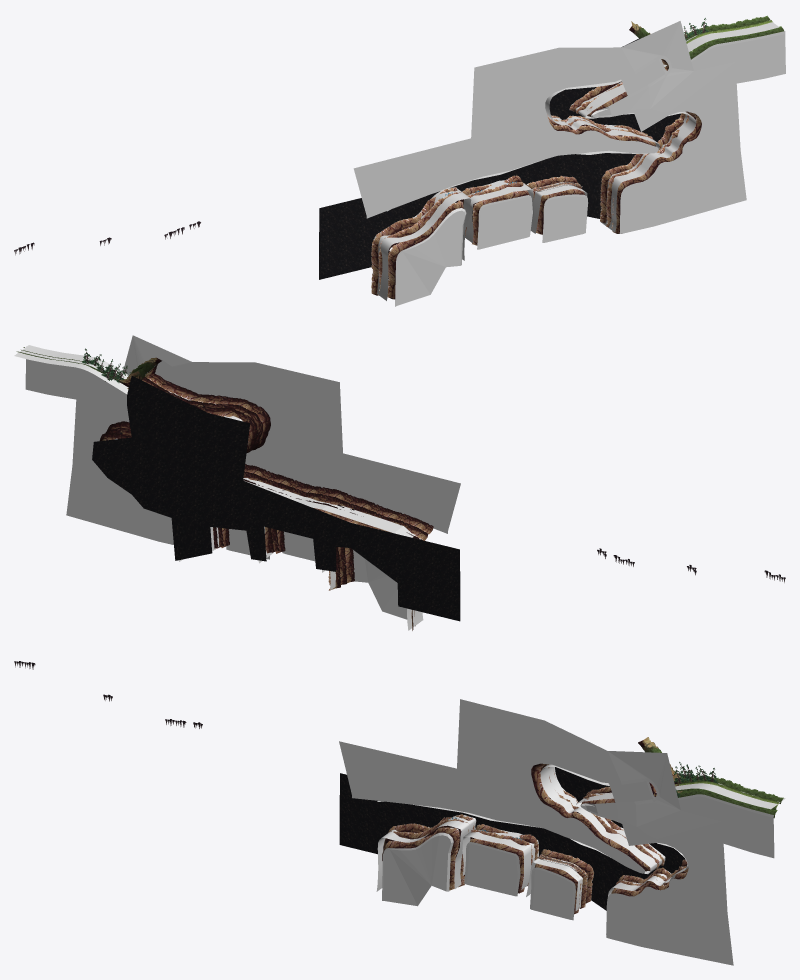
File: Lvl 9 Pt 4.FBX
3 views of the same model, one above another, from view 1: azimuth 30°, elevation 25°; view 2: azimuth 150°, elevation 25°; view 3: azimuth 330°, elevation 25° (orthographic).
Parts seen in each view (by area): view 1: Black LVL pt 4_5 (×2), Black LVL pt 4, Lvl 9 Col Pt 4, BG Lvl 9 Mines Pt 4_1, BG Lvl 9 Mines Pt 4_2, Black LVL pt 4_2, Black LVL pt 4_3, Black LVL pt 4_4, Rock Pt 4_012FG001 BG, Rock Pt 4_012FG, Rock Pt 4_010FG001 BG, Rock Pt 4_010FG (+6 smaller); view 2: Black LVL pt 4_5 (×2), BG Lvl 9 Mines Pt 4_2, BG Lvl 9 Mines Pt 4_1, Black LVL pt 4, Lvl 9 Col Pt 4, Rock Pt 4_013FG, Black LVL pt 4_2, Rock Pt 4_009FG, Rock Pt 4_4, Black LVL pt 4_3, Rock Pt 4_5, Rock Pt 4_009FG001 BG (+1 smaller); view 3: Black LVL pt 4_5 (×2), Black LVL pt 4, Lvl 9 Col Pt 4, BG Lvl 9 Mines Pt 4_1, Black LVL pt 4_2, BG Lvl 9 Mines Pt 4_2, Black LVL pt 4_3, Black LVL pt 4_4, Rock Pt 4_009FG, Rock Pt 4_014FG001 BG, Rock Pt 4_010FG, Rock Pt 4_014FG (+2 smaller).
Boxes of the visible parts, x1,y1,x2,y2 form: Black LVL pt 4_5 (×2): (471,21,785,233); Black LVL pt 4: (353,119,658,218); Lvl 9 Col Pt 4: (374,16,778,300); BG Lvl 9 Mines Pt 4_1: (319,162,537,279); BG Lvl 9 Mines Pt 4_2: (537,38,680,218); Black LVL pt 4_2: (395,208,466,306); Black LVL pt 4_3: (477,195,532,249); Black LVL pt 4_4: (542,194,588,242); Rock Pt 4_012FG001 BG: (569,81,685,223); Rock Pt 4_012FG: (587,60,701,233); Rock Pt 4_010FG001 BG: (371,187,457,295); Rock Pt 4_010FG: (387,200,463,299); Black LVL pt 4_5 (×2): (25,335,342,544); BG Lvl 9 Mines Pt 4_2: (92,376,250,560); BG Lvl 9 Mines Pt 4_1: (241,480,460,621); Black LVL pt 4: (245,435,460,533); Lvl 9 Col Pt 4: (14,345,423,630); Rock Pt 4_013FG: (244,464,433,534); Black LVL pt 4_2: (353,550,407,619); Rock Pt 4_009FG: (146,373,270,450); Rock Pt 4_4: (243,471,428,540); Black LVL pt 4_3: (282,531,315,561); Rock Pt 4_5: (142,377,262,448); Rock Pt 4_009FG001 BG: (192,405,257,452); Black LVL pt 4_5 (×2): (457,699,774,965); Black LVL pt 4: (339,741,645,873); Lvl 9 Col Pt 4: (376,764,785,934); BG Lvl 9 Mines Pt 4_1: (339,773,558,855); Black LVL pt 4_2: (382,832,453,906); BG Lvl 9 Mines Pt 4_2: (555,767,685,910); Black LVL pt 4_3: (464,842,520,896); Black LVL pt 4_4: (530,867,575,920); Rock Pt 4_009FG: (531,763,650,871); Rock Pt 4_014FG001 BG: (638,737,783,803); Rock Pt 4_010FG: (382,827,459,890); Rock Pt 4_014FG: (649,782,777,818).
Size of the model in its own units: 32083 by 1284 by 8851.
